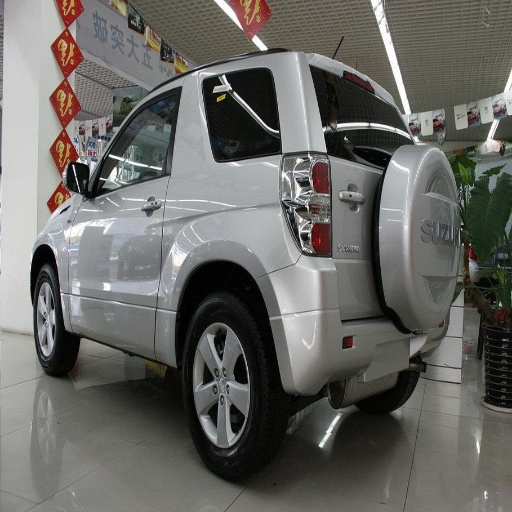back_bumper: (279, 311, 393, 391), (290, 257, 337, 294)
back_left_door: (161, 87, 217, 177)
back_left_light: (283, 171, 331, 255)
tailgate: (381, 181, 453, 307)
trunk: (276, 286, 331, 317)
